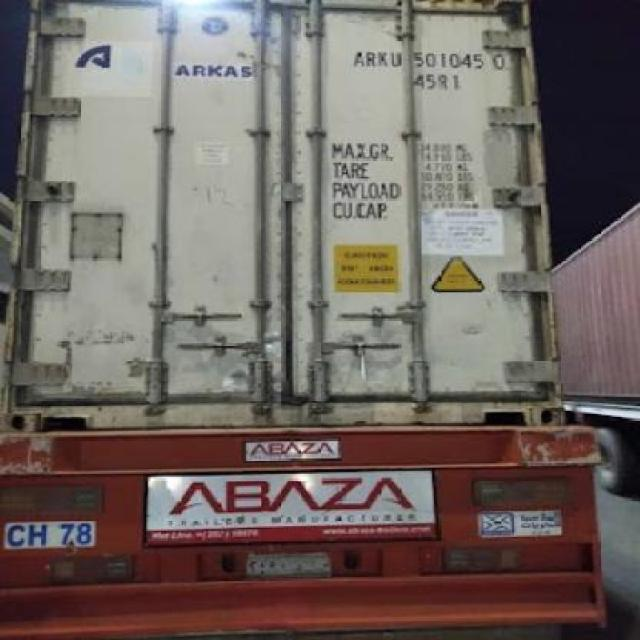ISO: (419, 73, 461, 93)
container_number: (358, 50, 506, 70)
